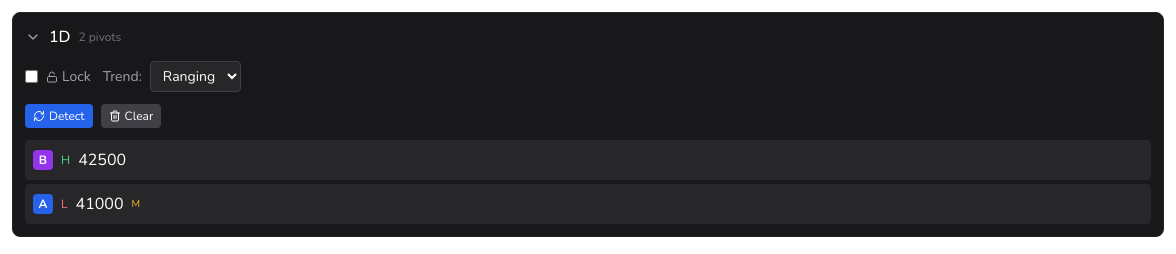
PivotSettingsPanel › collapsed state › should toggle content visibility on header click
This screenshot has width=1176, height=254.
Check: the button "42500" is shown, box x1=78 y1=148 x2=126 y2=172
// Click to collapse
Click the button "1D 2 pivots".
click(33, 37)  # box x1=13 y1=13 x2=1163 y2=61
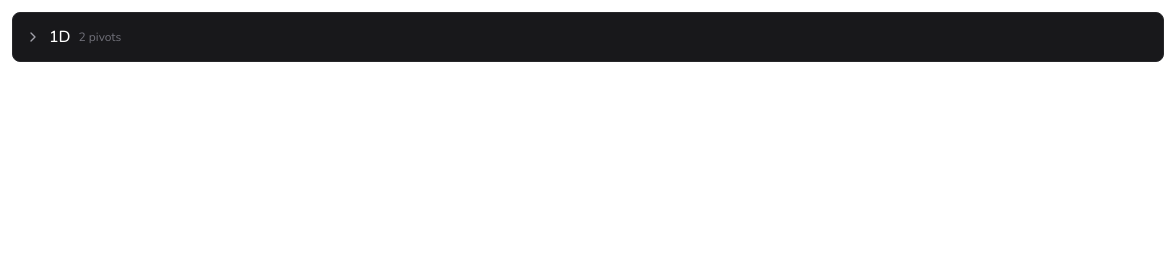
Check: the button "42500" is gone
